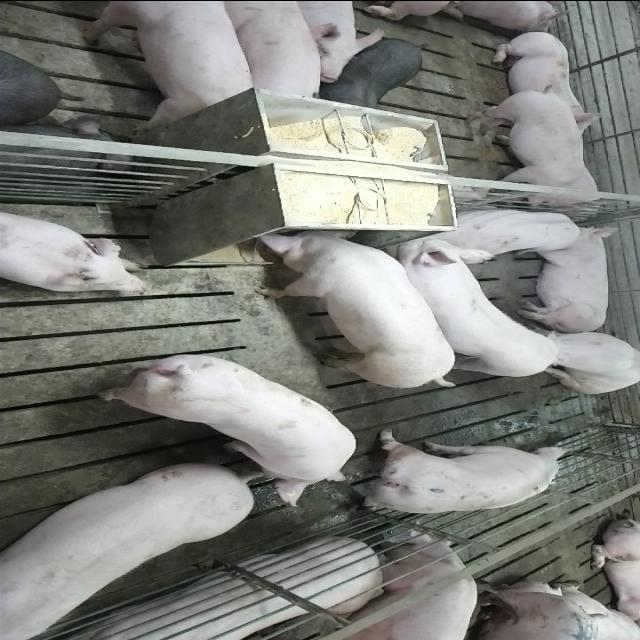Feeding: (244, 220, 463, 385)
Lateral_lying: (42, 539, 392, 640), (514, 224, 621, 334)
Sitting: (526, 326, 640, 394)
Standing: (0, 465, 257, 640), (94, 355, 356, 511), (380, 241, 562, 381), (76, 2, 258, 128), (353, 430, 572, 515), (458, 86, 590, 214), (331, 531, 477, 640), (217, 3, 326, 106)
Sternal_lying: (0, 205, 154, 291), (488, 32, 612, 136)
